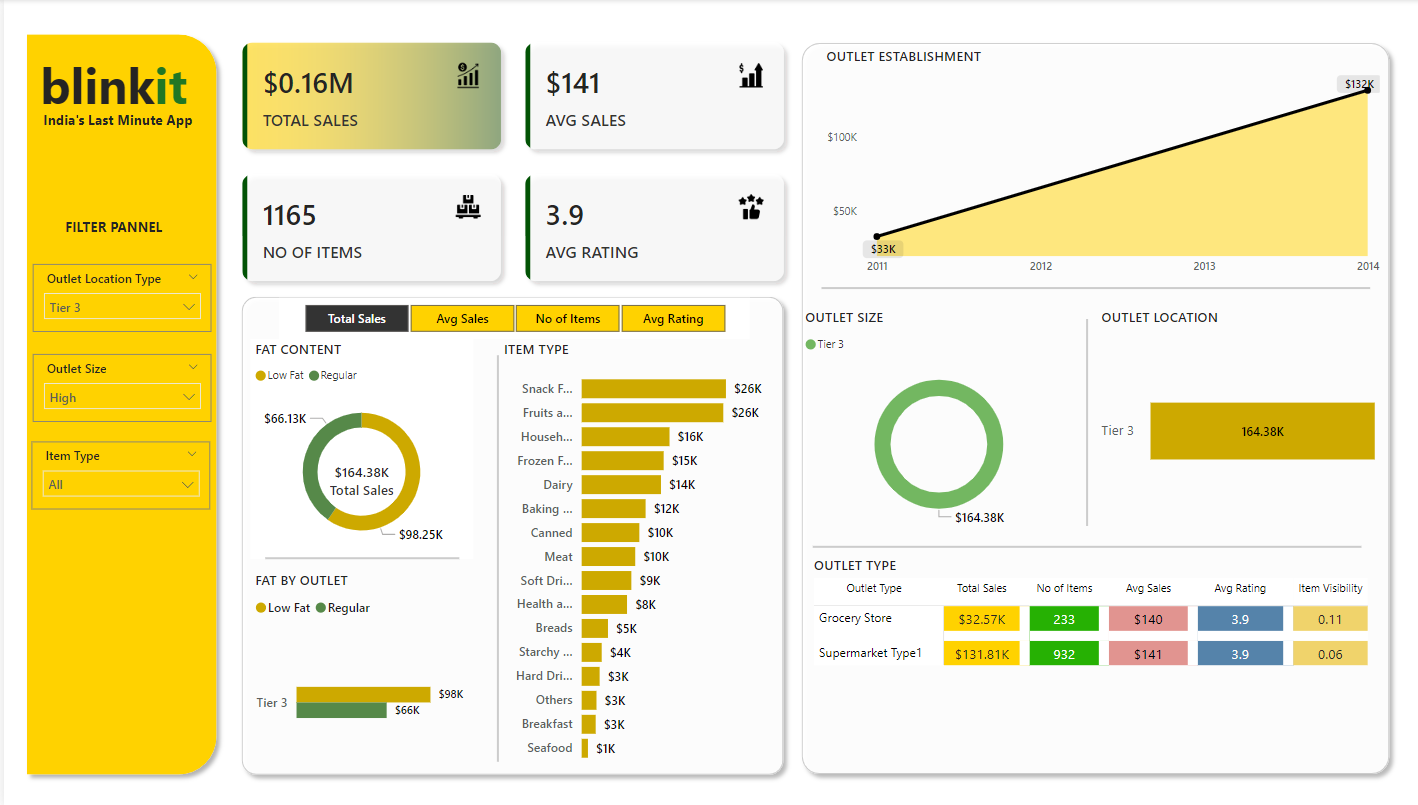

What the dashboard file says about the page in this screenshot:
{"tool":"powerbi","page":{"name":"Page 1","canvas":[1400,800],"ordinal":0},"visuals":[{"type":"shape","box":[13.5,25.5,205.6,750.4],"z":0},{"type":"textbox","box":[31.5,46.5,171.1,90.1],"z":1000},{"type":"textbox","box":[27,105.1,171.1,31.5],"z":2000},{"type":"cardVisual","fields":{"Data":["BlinkIT Grocery Data.Total Sales","BlinkIT Grocery Data.Avg Sales","BlinkIT Grocery Data.No of Items","BlinkIT Grocery Data.Avg Rating"]},"box":[219.1,25.5,570.3,270.2],"z":3000},{"type":"shape","box":[226.6,285.2,553.8,490.8],"z":4000},{"type":"donutChart","title":"FAT CONTENT","fields":{"Y":["BlinkIT Grocery Data.Total Sales"],"Category":["BlinkIT Grocery Data.Item Fat Content"]},"box":[243.1,336.2,220.6,217.6],"z":5000},{"type":"slicer","fields":{"Values":["Metrics.Metrics"]},"box":[271.7,295.7,465.3,40.5],"z":6000},{"type":"cardVisual","fields":{"Data":["BlinkIT Grocery Data.Total Sales"]},"box":[303.2,441.3,102.1,64.5],"z":7000},{"type":"clusteredBarChart","title":"FAT BY OUTLET","fields":{"Y":["BlinkIT Grocery Data.Total Sales"],"Category":["BlinkIT Grocery Data.Outlet Location Type"],"Series":["BlinkIT Grocery Data.Item Fat Content"]},"box":[243.1,565.8,220.6,210.1],"z":8000},{"type":"shape","box":[258.1,532.8,192.1,40.5],"z":9000},{"type":"shape","box":[474.3,352.7,30,402.2],"z":10000},{"type":"barChart","title":"ITEM TYPE","fields":{"Y":["BlinkIT Grocery Data.Total Sales"],"Category":["BlinkIT Grocery Data.Item Type"]},"box":[489.3,336.2,274.7,429.2],"z":11000},{"type":"shape","box":[780.2,34.9,599.2,741.3],"z":12000},{"type":"lineChart","title":"OUTLET ESTABLISHMENT","fields":{"Y":["BlinkIT Grocery Data.Total Sales"],"Category":["BlinkIT Grocery Data.Outlet Establishment Year"]},"box":[808.3,46.9,557.6,234.6],"z":13000},{"type":"shape","box":[808.3,265.4,542.9,40.2],"z":14000},{"type":"donutChart","title":"OUTLET SIZE","fields":{"Y":["BlinkIT Grocery Data.Total Sales"],"Category":["BlinkIT Grocery Data.Outlet Location Type"]},"box":[788.2,305.6,274.8,225.2],"z":15000},{"type":"shape","box":[1056.3,316.4,30.8,205.1],"z":16000},{"type":"funnel","title":"OUTLET LOCATION","fields":{"Y":["Sum(BlinkIT Grocery Data.Sales)"],"Category":["BlinkIT Grocery Data.Outlet Location Type"]},"box":[1080.4,305.6,285.5,225.2],"z":17000},{"type":"shape","box":[800.3,521.5,542.9,40.2],"z":18000},{"type":"pivotTable","title":"OUTLET TYPE","fields":{"Rows":["BlinkIT Grocery Data.Outlet Type"],"Values":["BlinkIT Grocery Data.Total Sales","BlinkIT Grocery Data.No of Items","BlinkIT Grocery Data.Avg Sales","BlinkIT Grocery Data.Avg Rating","Avg(BlinkIT Grocery Data.Item Visibility)"]},"box":[796.3,550.9,569.7,214.5],"z":19000},{"type":"slicer","fields":{"Values":["BlinkIT Grocery Data.Outlet Location Type"]},"box":[28.2,262.7,176.9,67],"z":20000},{"type":"slicer","fields":{"Values":["BlinkIT Grocery Data.Outlet Size"]},"box":[28.2,351.2,176.9,67],"z":21000},{"type":"slicer","fields":{"Values":["BlinkIT Grocery Data.Item Type"]},"box":[26.8,438.3,176.9,67],"z":22000},{"type":"textbox","box":[55.5,211.6,118.6,36],"z":23000}]}

Visuals, with their boxes in screenshot pixels (x1, y1, x2, y2), scaled from the page's 1400x800 canvas onto the 1418x805 screenshot:
shape: detection(14, 26, 222, 781)
textbox: detection(32, 47, 205, 137)
textbox: detection(27, 106, 201, 137)
cardVisual - BlinkIT Grocery Data.Total Sales x BlinkIT Grocery Data.Avg Sales: detection(222, 26, 800, 298)
shape: detection(230, 287, 790, 781)
"FAT CONTENT" donutChart: detection(246, 338, 470, 557)
slicer - Metrics.Metrics: detection(275, 298, 746, 338)
cardVisual - BlinkIT Grocery Data.Total Sales: detection(307, 444, 411, 509)
"FAT BY OUTLET" clusteredBarChart: detection(246, 569, 470, 781)
shape: detection(261, 536, 456, 577)
shape: detection(480, 355, 511, 760)
"ITEM TYPE" barChart: detection(496, 338, 774, 770)
shape: detection(790, 35, 1397, 781)
"OUTLET ESTABLISHMENT" lineChart: detection(819, 47, 1383, 283)
shape: detection(819, 267, 1369, 308)
"OUTLET SIZE" donutChart: detection(798, 308, 1077, 534)
shape: detection(1070, 318, 1101, 525)
"OUTLET LOCATION" funnel: detection(1094, 308, 1383, 534)
shape: detection(811, 525, 1360, 565)
"OUTLET TYPE" pivotTable: detection(807, 554, 1384, 770)
slicer - BlinkIT Grocery Data.Outlet Location Type: detection(29, 264, 208, 332)
slicer - BlinkIT Grocery Data.Outlet Size: detection(29, 353, 208, 421)
slicer - BlinkIT Grocery Data.Item Type: detection(27, 441, 206, 508)
textbox: detection(56, 213, 176, 249)
